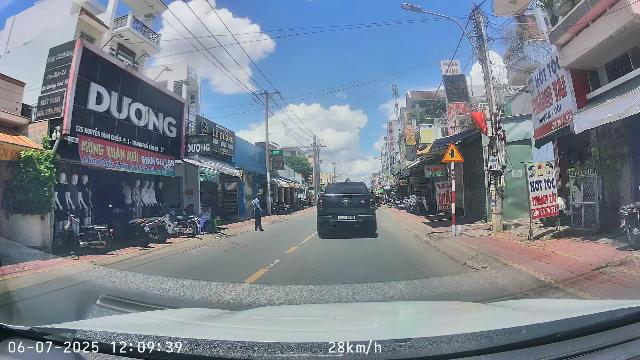207-giao-nhau-voi-duong-khong-uu-tien: (442, 142, 464, 162)
